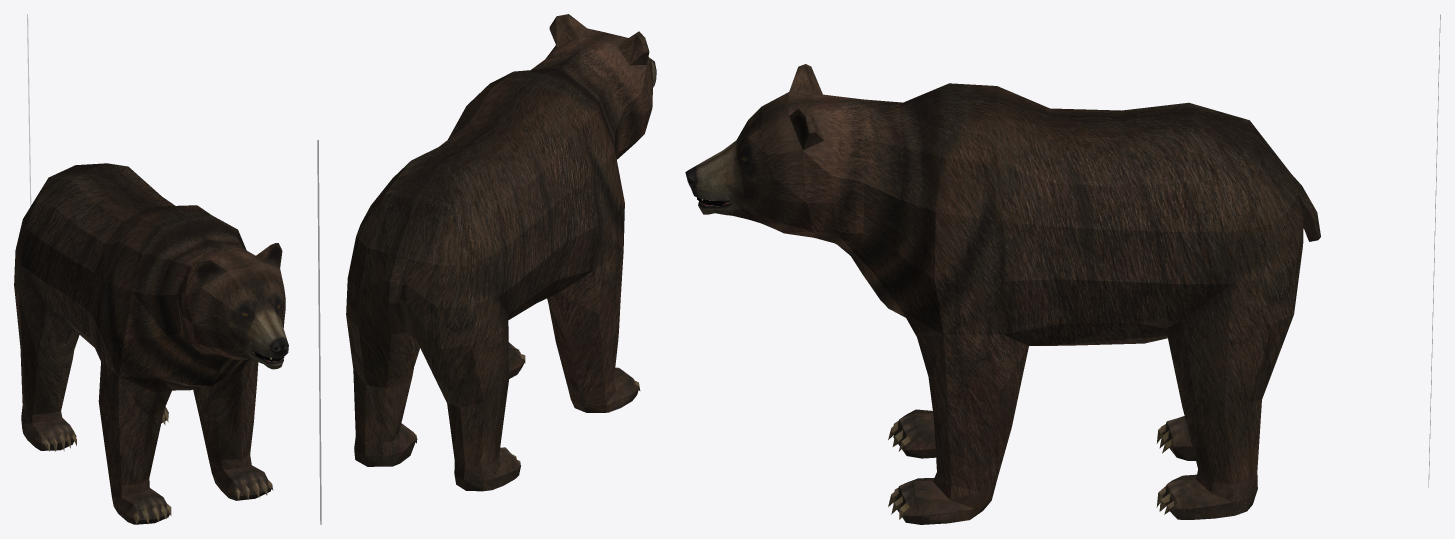
3 renders of one model, left to right at view 1: azimuth 30°, elevation 25°; view 2: azimuth 150°, elevation 25°; view 3: azimuth 270°, elevation 25°, orthographic. The views are drawn at different scales.
Parts seen in each view (by area): view 1: Mesh.002, Плоскость; view 2: Mesh.002, Плоскость; view 3: Mesh.002.
Boxes of the visible parts, left/top/right/bottom form: Mesh.002: left=14, top=163, right=288, bottom=524; Плоскость: left=27, top=14, right=31, bottom=206; Mesh.002: left=346, top=14, right=656, bottom=491; Плоскость: left=317, top=140, right=321, bottom=524; Mesh.002: left=685, top=64, right=1320, bottom=524.
Size of the model in its own units: 13.78 by 32.3 by 46.08.
Materials: 3 (2 with a texture image).
